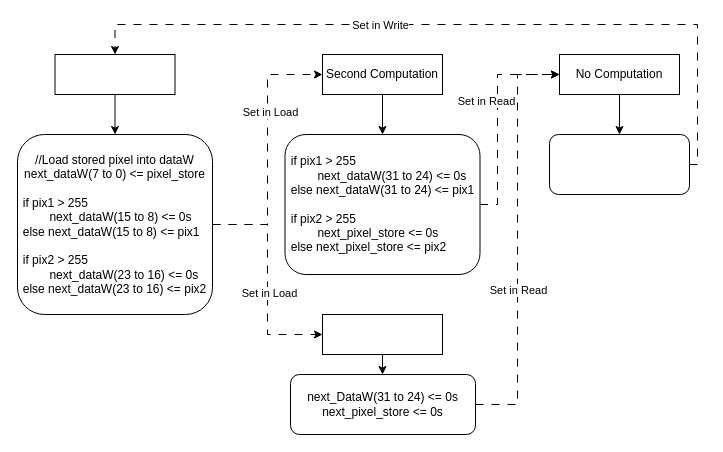
Some shapes in this 723 by 452 pixel diagram are drawn without their labels. The shapes that lost their labels are listed below. From the top down, each one's centre as x and y in pixels, then its label:
At point (114, 74): "First Computation".
At point (619, 164): "DataW <= prev_dataW".
At point (382, 334): "EOL Computation".
